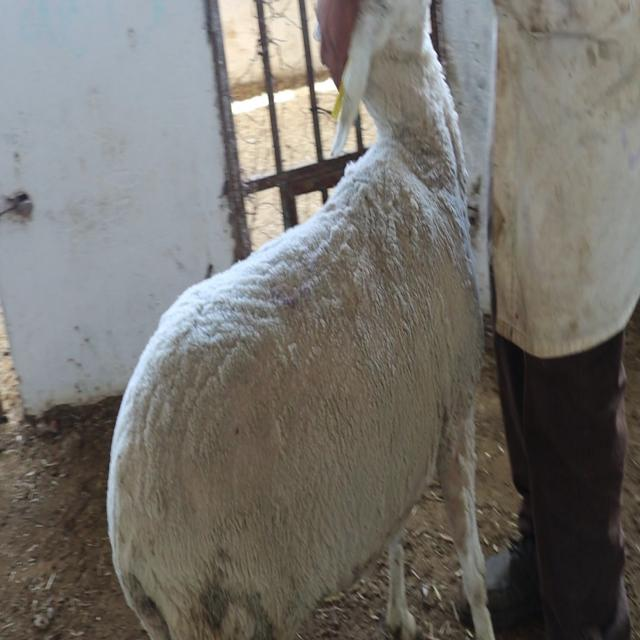Score_4: (107, 0, 494, 639)
